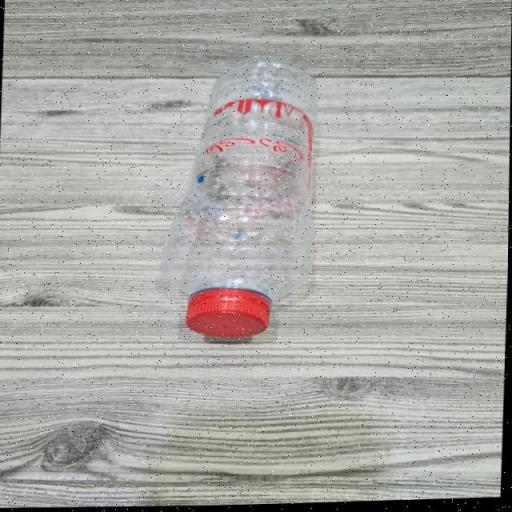plastic: (157, 48, 330, 352)
